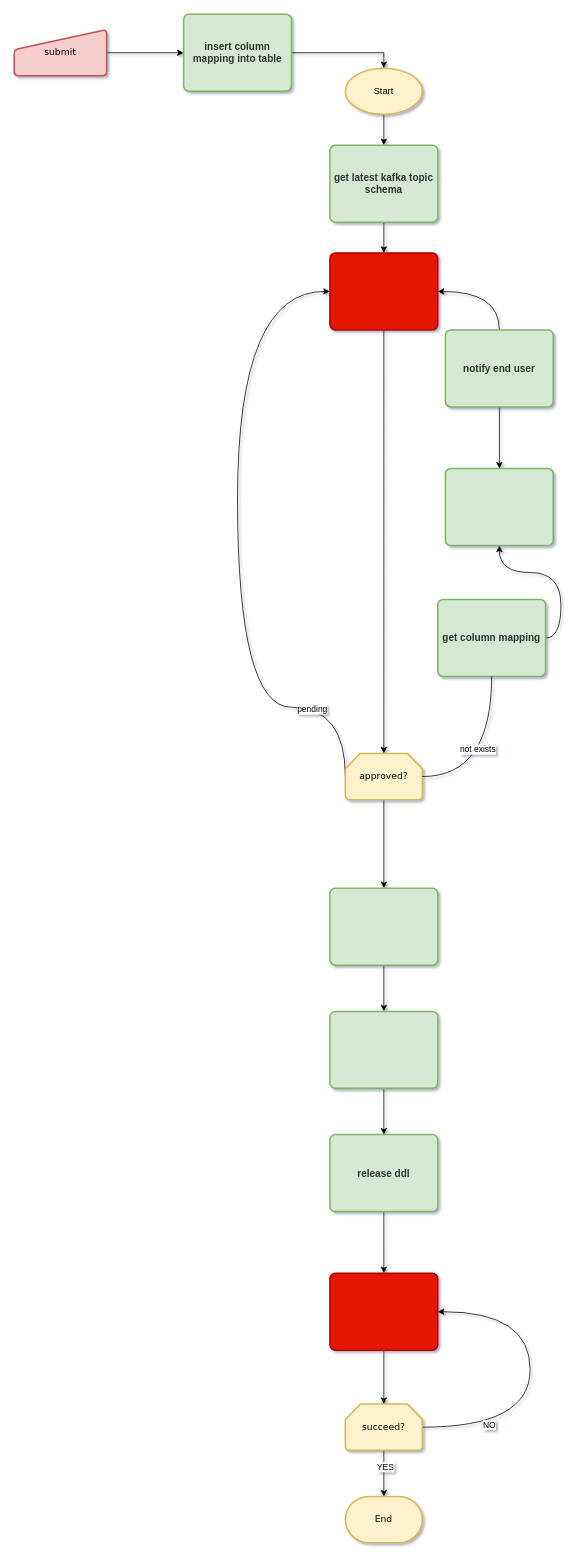
Image size: 579x1561. Some labels were removed from this diagram. Here are the shapes that lost their labels. From the top down, the box of each, then its label:
(329, 252, 438, 330): get data model status
(444, 467, 554, 546): create data model
(329, 887, 438, 966): generate ddl
(329, 1010, 438, 1089): retrieve ddl
(329, 1272, 438, 1351): get release status
